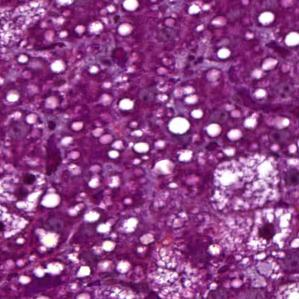ballooning: (214, 148, 283, 216), (246, 206, 293, 253)
